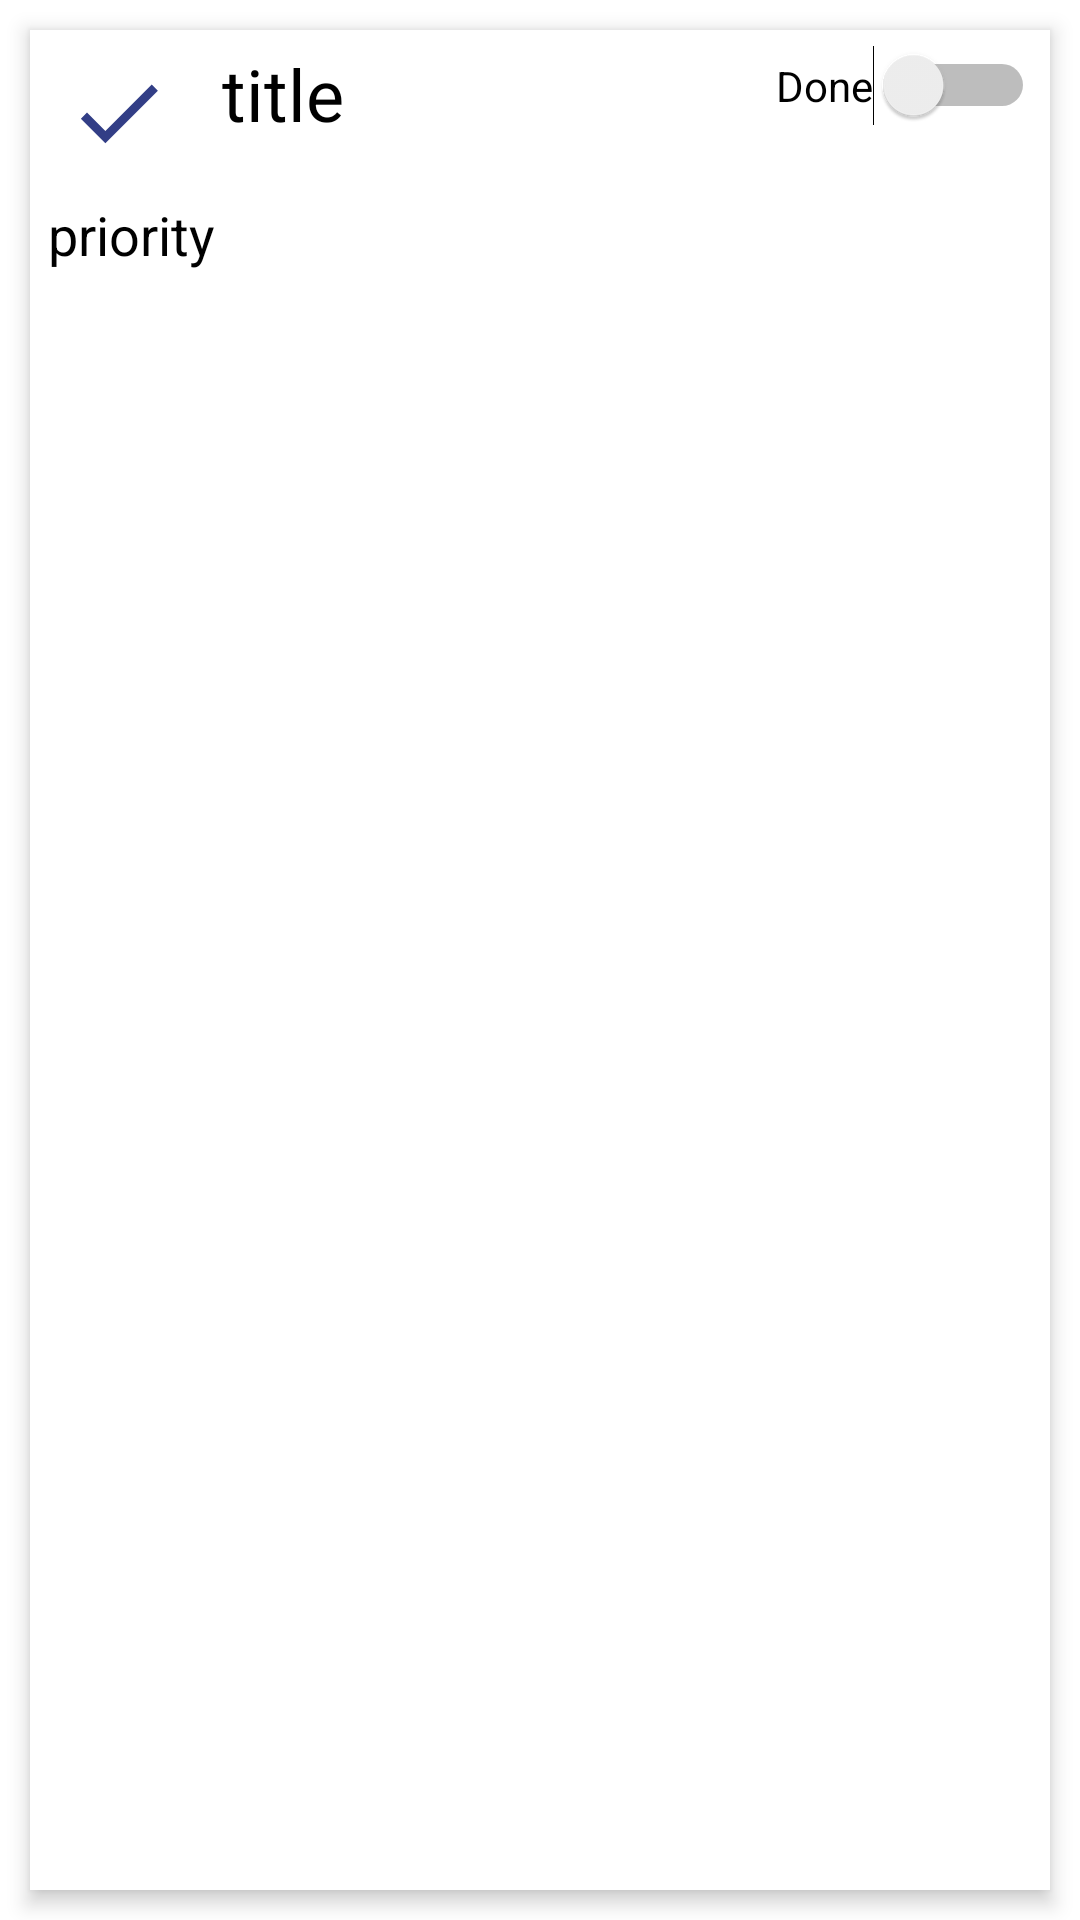

Icons on this 1080 × 1920 Android screen, each with its box as [x1,y1,x2,y2]:
done: [81,84,158,143]
